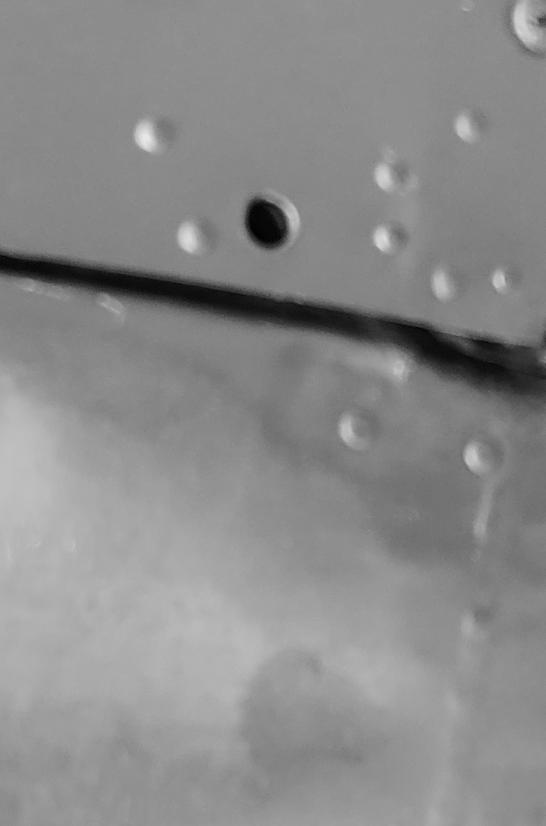dent: (0, 1, 546, 826)
